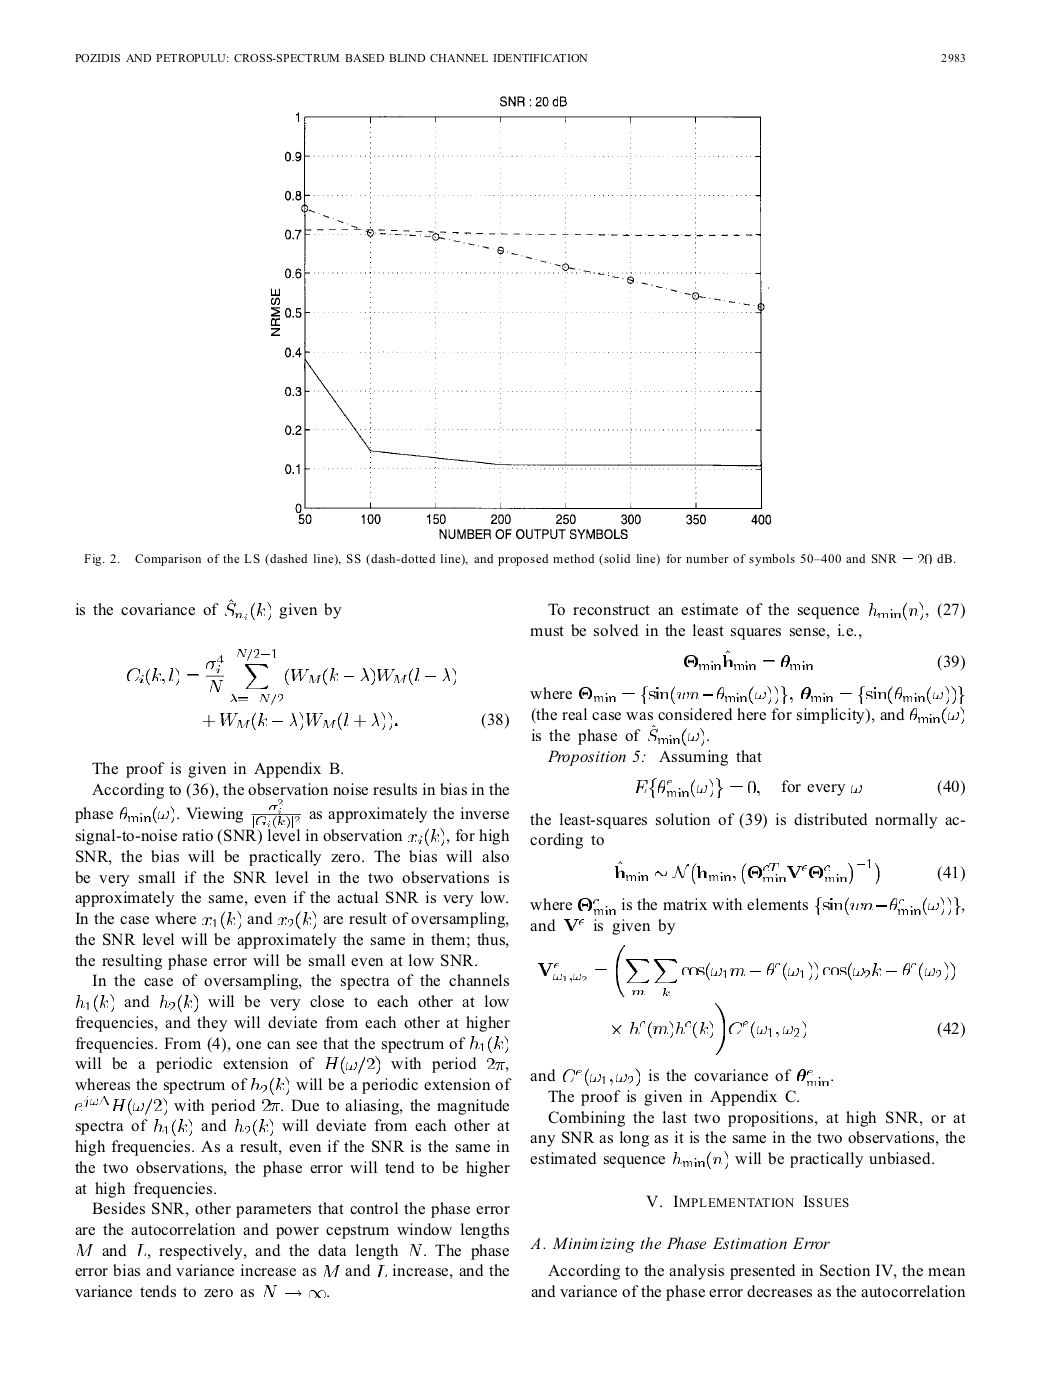figure: (271, 96, 770, 538)
formula: (538, 944, 954, 997), (127, 647, 455, 705), (612, 1002, 964, 1055), (615, 858, 964, 884), (636, 777, 964, 798), (203, 711, 508, 730), (684, 650, 964, 670)
